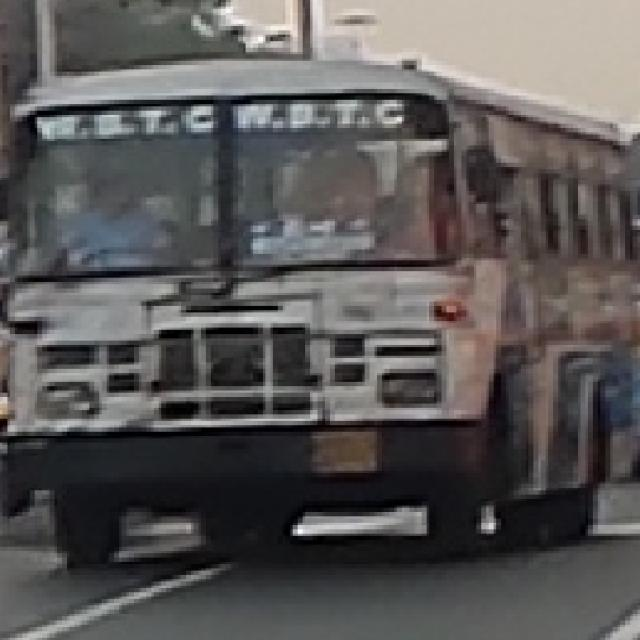bus: (7, 54, 640, 564)
